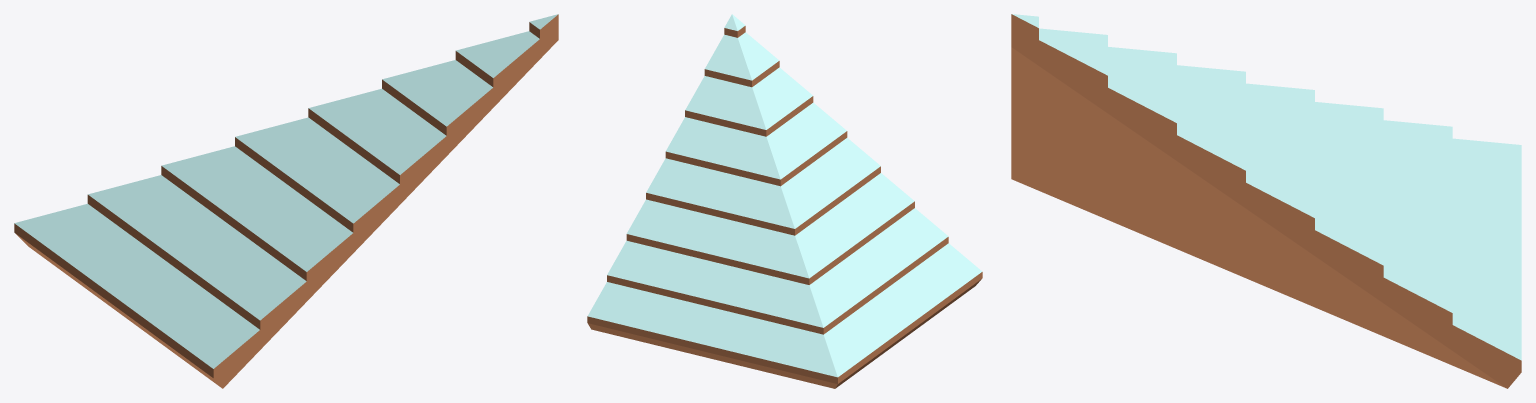
The model's file is cabinRoofCorner.fbx.
3 renders of one model, left to right at view 1: azimuth 30°, elevation 25°; view 2: azimuth 150°, elevation 25°; view 3: azimuth 270°, elevation 25°, orthographic. The views are drawn at different scales.
Visible parts, largest first — view 1: cabinRoofCorner; view 2: cabinRoofCorner; view 3: cabinRoofCorner.
Boxes of the visible parts, left/top/right/bottom form: cabinRoofCorner: left=14, top=14, right=558, bottom=388; cabinRoofCorner: left=587, top=14, right=982, bottom=388; cabinRoofCorner: left=1011, top=14, right=1521, bottom=388.
Bounding box in the file's own units: 11.15 × 9.05 × 11.15.
